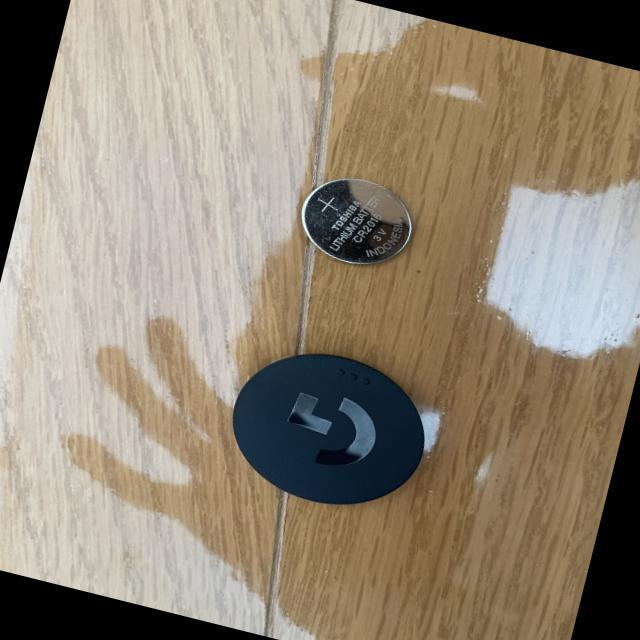COIN: (289, 165, 422, 276)
